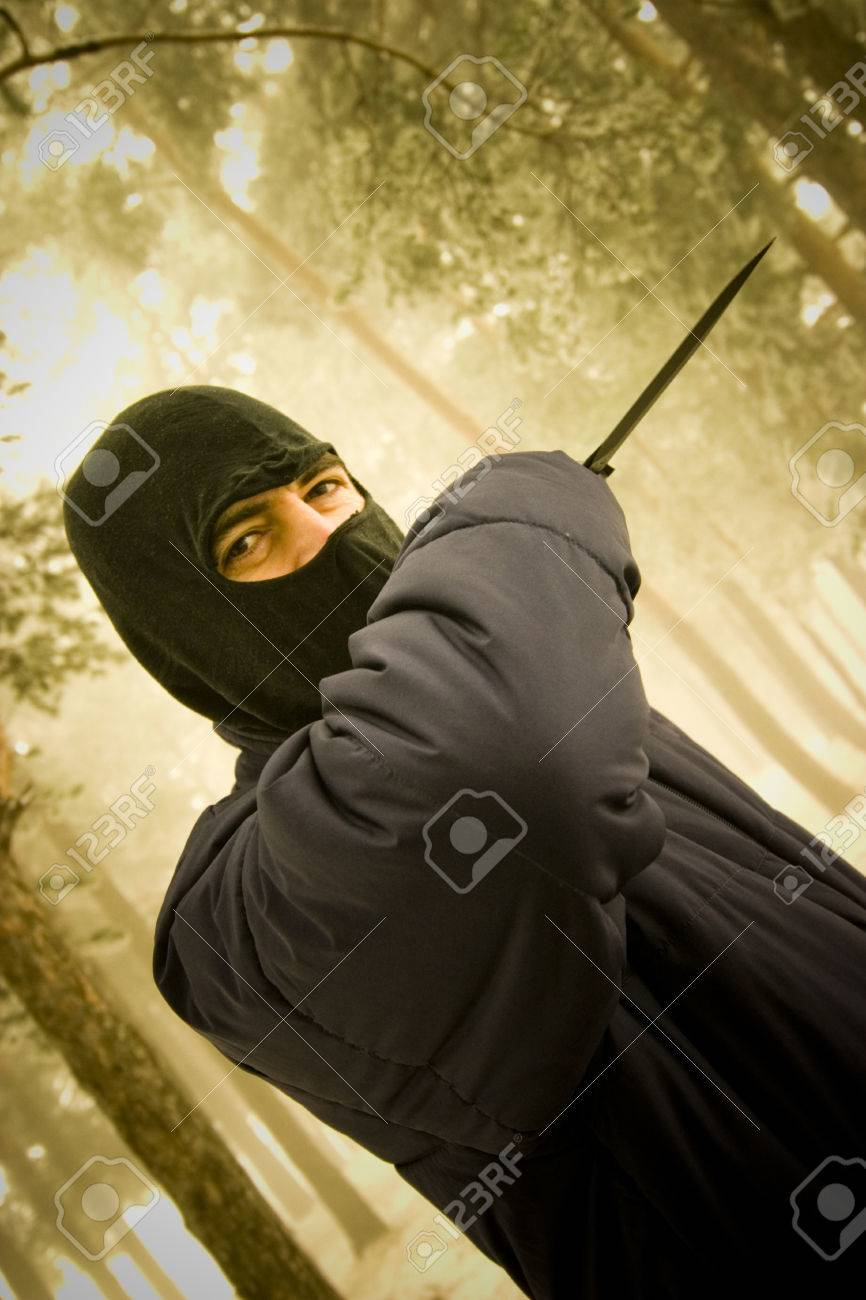balaclava: (64, 379, 409, 742)
knife: (582, 239, 782, 480)
